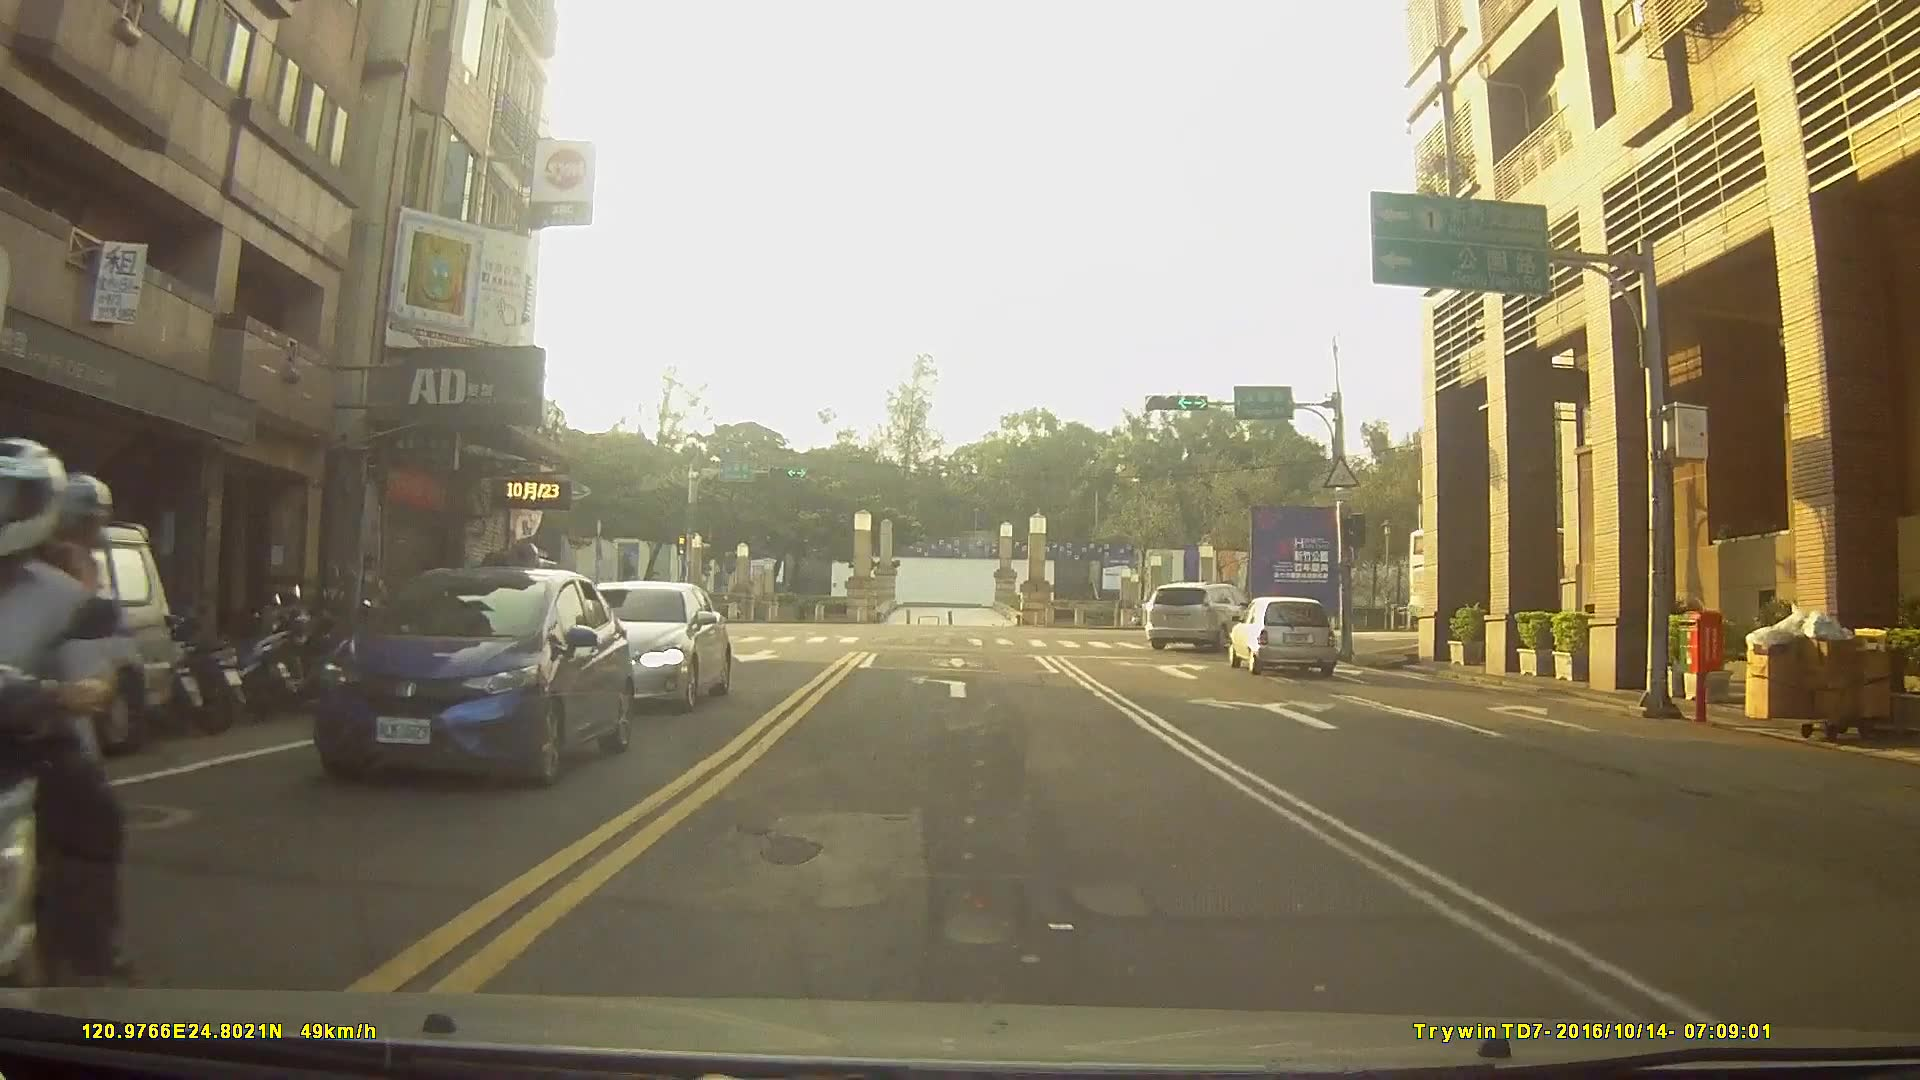rider: (1, 434, 141, 1080)
vehicle: (308, 563, 633, 790), (0, 517, 174, 758), (544, 578, 728, 712), (1226, 592, 1334, 672), (1145, 579, 1257, 648)
